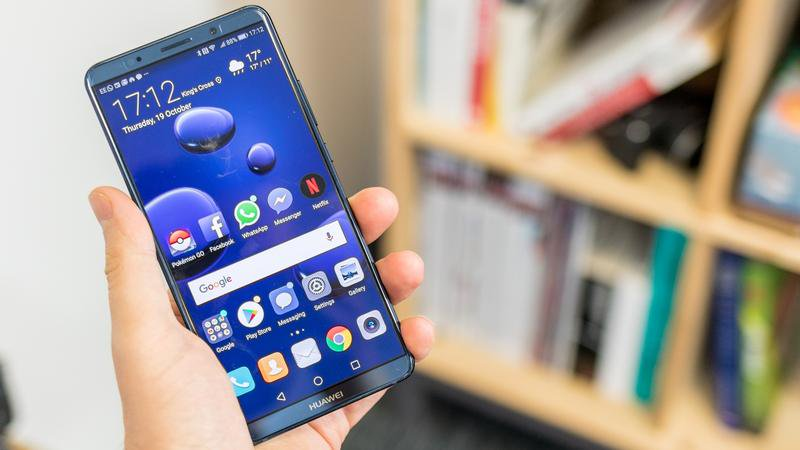mobile: (58, 1, 449, 450)
